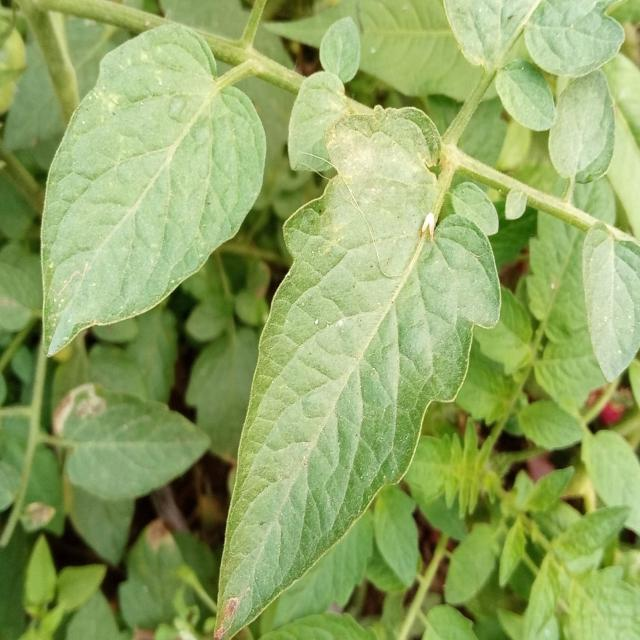Healthy: (199, 92, 536, 640), (0, 1, 311, 406), (583, 222, 640, 380)
